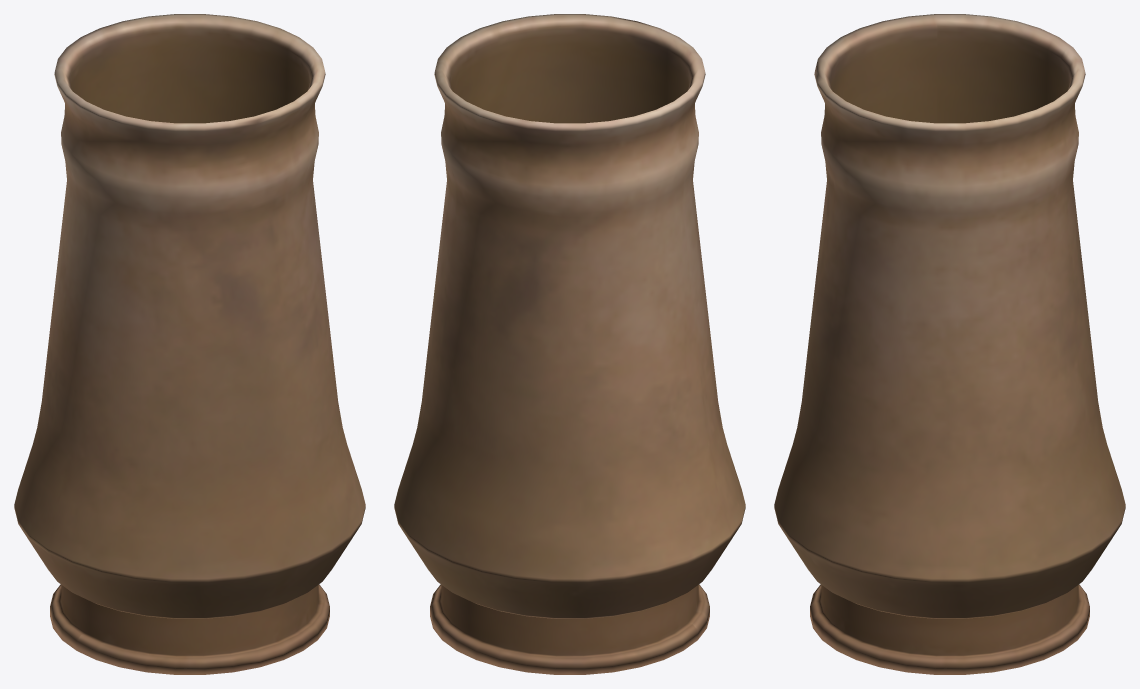
File: SM_ClayVases_05.fbx
The picture shows the model from 3 angles, left to right: view 1: azimuth 30°, elevation 25°; view 2: azimuth 150°, elevation 25°; view 3: azimuth 270°, elevation 25°; orthographic projection.
Visible parts, largest first — view 1: SM_ClayVases_05_LOD0; view 2: SM_ClayVases_05_LOD0; view 3: SM_ClayVases_05_LOD0.
Part boxes in pixels (<box>): SM_ClayVases_05_LOD0: <box>14,14,365,674</box>; SM_ClayVases_05_LOD0: <box>394,14,745,674</box>; SM_ClayVases_05_LOD0: <box>774,14,1125,674</box>.
Size of the model in its own units: 14.37 by 14.45 by 24.81.
Materials: 1 (1 with a texture image).
